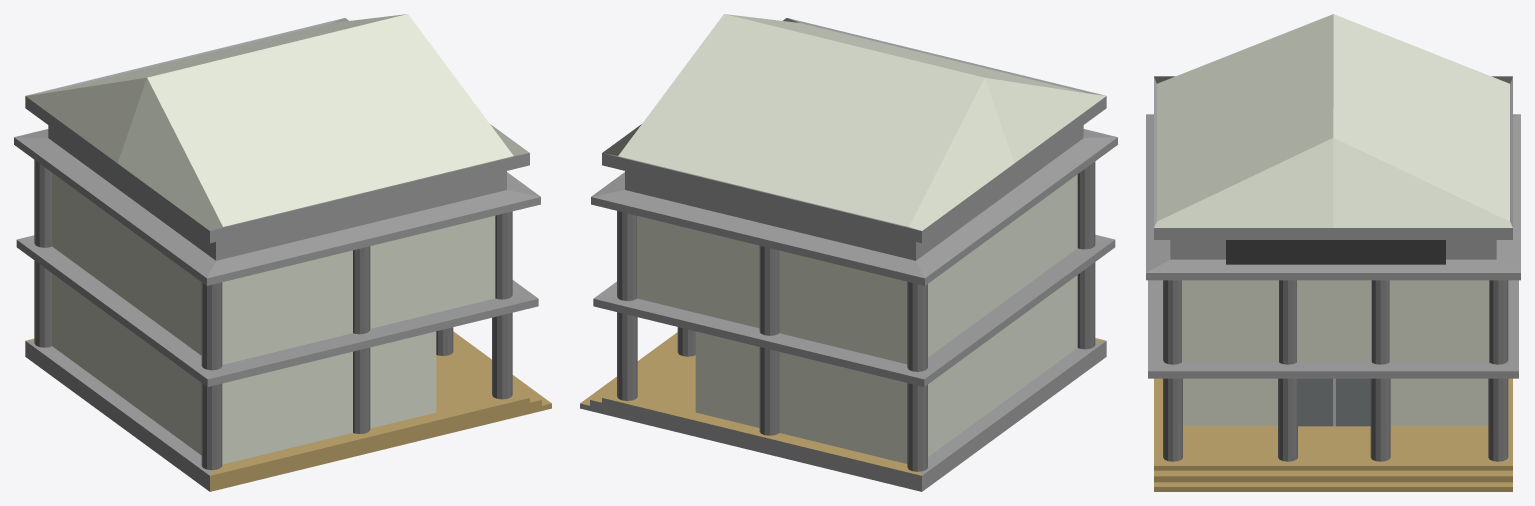
File: museo.fbx
3 views of the same model, side by side, from view 1: azimuth 30°, elevation 25°; view 2: azimuth 150°, elevation 25°; view 3: azimuth 270°, elevation 25° (orthographic). The views are drawn at different scales.
Visible parts, largest first — view 1: Cube.004, Cube.001, Cube, Cube.003, Cylinder.015, Cylinder.002, Cylinder, Cylinder.017, Cylinder.016, Cylinder.001, Cylinder.014, Cylinder.003; view 2: Cube.004, Cube.001, Cube, Cube.003, Cylinder.014, Cylinder.013, Cylinder.003, Cylinder.004, Cylinder.005, Cylinder.012, Cylinder.015, Cylinder.002; view 3: Cube.004, Cube.001, Cube, Cube.003, Cube.002, Cube.005, Cylinder.005, Cylinder.007, Cylinder.012, Cylinder, Cylinder.006, Cylinder.017 (+2 smaller).
Part boxes in pixels (x1,y1,x2,y2): Cube.004: [26, 14, 529, 230]; Cube.001: [52, 173, 495, 464]; Cube: [14, 18, 540, 491]; Cube.003: [26, 331, 551, 491]; Cylinder.015: [201, 282, 222, 370]; Cylinder.002: [201, 383, 222, 470]; Cylinder: [492, 312, 512, 399]; Cylinder.017: [495, 211, 512, 299]; Cylinder.016: [353, 246, 370, 334]; Cylinder.001: [353, 347, 370, 433]; Cylinder.014: [34, 160, 51, 247]; Cylinder.003: [34, 260, 51, 347]; Cube.004: [602, 14, 1105, 230]; Cube.001: [637, 174, 1077, 463]; Cube: [580, 18, 1117, 491]; Cube.003: [580, 332, 1105, 475]; Cylinder.014: [907, 281, 927, 371]; Cylinder.013: [759, 246, 779, 335]; Cylinder.003: [907, 383, 927, 471]; Cylinder.004: [759, 347, 779, 435]; Cylinder.005: [617, 312, 637, 400]; Cylinder.012: [617, 211, 636, 300]; Cylinder.015: [1077, 161, 1095, 249]; Cylinder.002: [1077, 262, 1095, 349]; Cube.004: [1154, 14, 1512, 227]; Cube.001: [1182, 280, 1489, 425]; Cube: [1146, 77, 1520, 378]; Cube.003: [1154, 378, 1512, 491]; Cube.002: [1226, 240, 1445, 264]; Cube.005: [1298, 378, 1370, 426]; Cylinder.005: [1488, 378, 1508, 461]; Cylinder.007: [1370, 378, 1390, 461]; Cylinder.012: [1489, 280, 1508, 364]; Cylinder: [1163, 378, 1182, 461]; Cylinder.006: [1278, 378, 1297, 461]; Cylinder.017: [1163, 280, 1181, 364].
Size of the model in its own units: 218 by 203 by 209.
